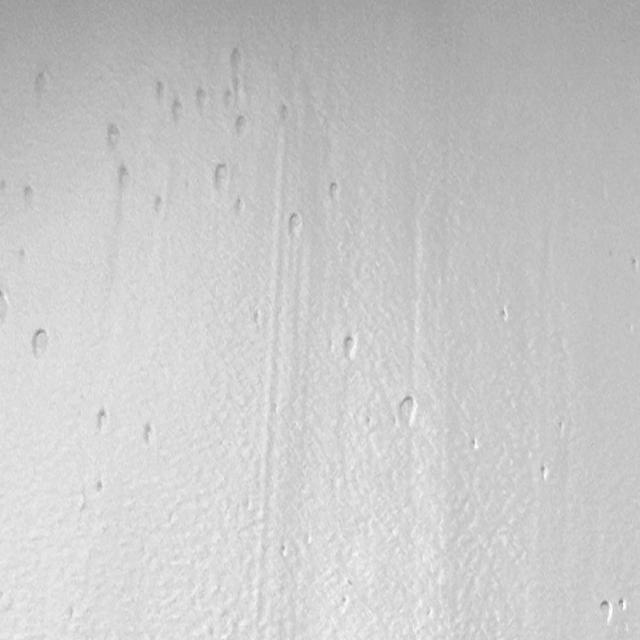pin holes: (28, 325, 54, 361), (394, 394, 419, 426), (211, 162, 233, 196), (33, 70, 54, 98), (227, 47, 244, 81), (93, 406, 113, 434), (340, 333, 360, 361), (105, 121, 124, 150), (284, 213, 304, 240), (140, 422, 160, 448), (597, 600, 616, 626), (193, 86, 212, 111), (117, 164, 135, 190), (232, 116, 250, 141), (151, 194, 169, 218), (170, 96, 187, 121), (325, 180, 343, 203), (21, 184, 38, 208), (536, 460, 553, 484), (275, 539, 292, 562), (248, 306, 264, 330), (0, 289, 13, 318), (278, 102, 294, 124), (154, 80, 168, 104), (15, 246, 31, 267), (233, 196, 248, 218), (616, 594, 631, 615), (220, 87, 232, 112), (554, 417, 568, 437), (499, 306, 513, 324), (337, 592, 351, 610), (94, 479, 108, 496), (469, 438, 482, 453), (628, 257, 638, 275), (0, 180, 9, 197)
